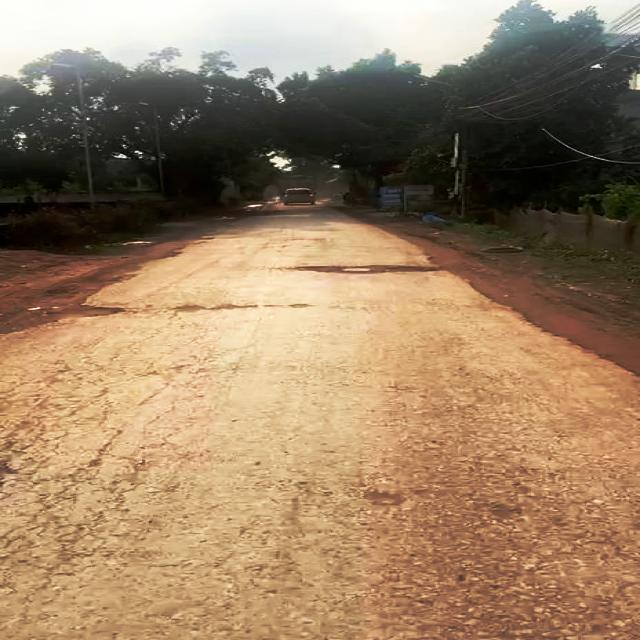pothole: (292, 258, 440, 276), (58, 298, 136, 322)
